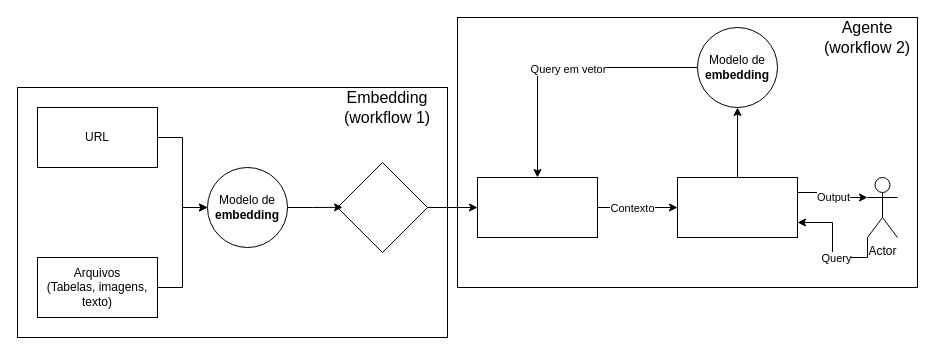
This 935x355 diagram has some shape labels left out. The box of each missing label's shape, as (x1, y1, x2, y2) in pixels:
Agente: (676, 176, 798, 238)
Busca semântica: (476, 176, 598, 238)
Espaço vetorial (Qdrant): (336, 162, 428, 252)
